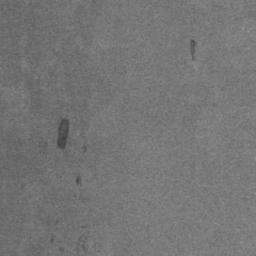Iron scale compression: (58, 118, 68, 149), (190, 40, 197, 59)
